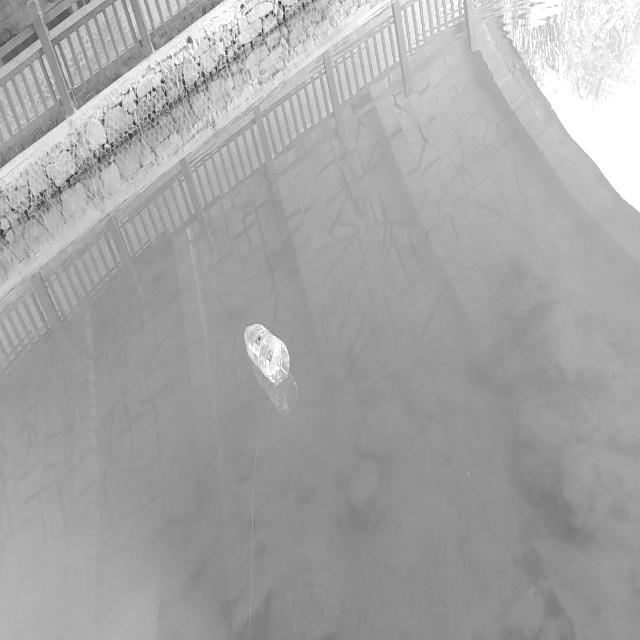bottle: (228, 316, 314, 390)
